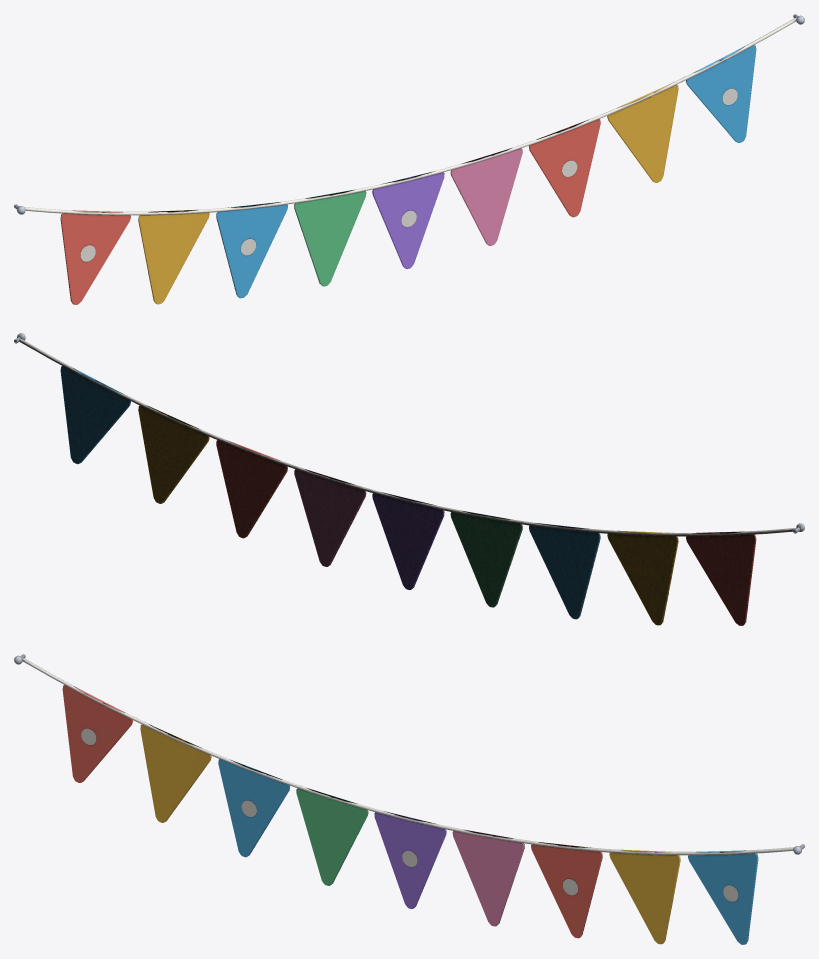
The model's file is party_banner.glb.
3 views of the same model, one above another, from view 1: azimuth 30°, elevation 25°; view 2: azimuth 150°, elevation 25°; view 3: azimuth 330°, elevation 25° (orthographic).
Visible parts, largest first — view 1: party_banner; view 2: party_banner; view 3: party_banner.
Part boxes in pixels (x1,y1,x2,y2): party_banner: [14, 14, 804, 304]; party_banner: [14, 333, 804, 625]; party_banner: [14, 654, 804, 944].
Bounding box in the file's own units: 1.62 × 0.3128 × 0.029.
Materials: 9 (9 with a texture image).
